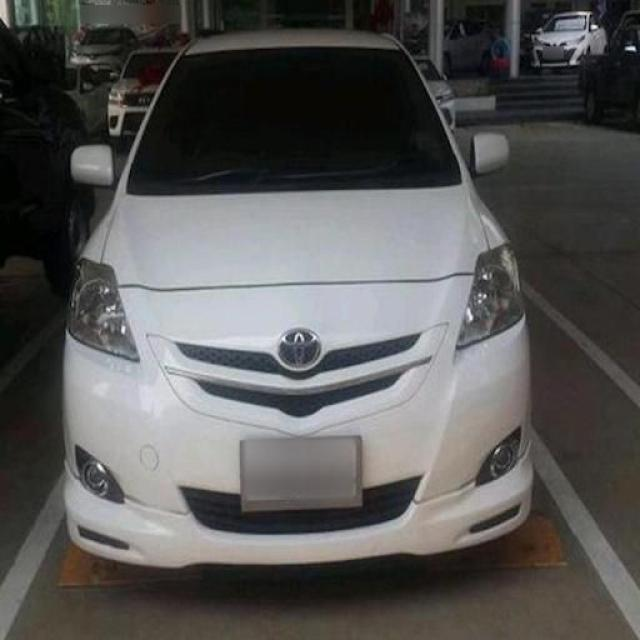front_bumper: (62, 272, 533, 568)
front_glass: (124, 46, 461, 195)
front_left_light: (456, 242, 524, 349)
front_right_light: (69, 258, 141, 362)
hood: (103, 184, 490, 294)
left_mirror: (470, 134, 511, 180)
right_mirror: (72, 144, 116, 188)
